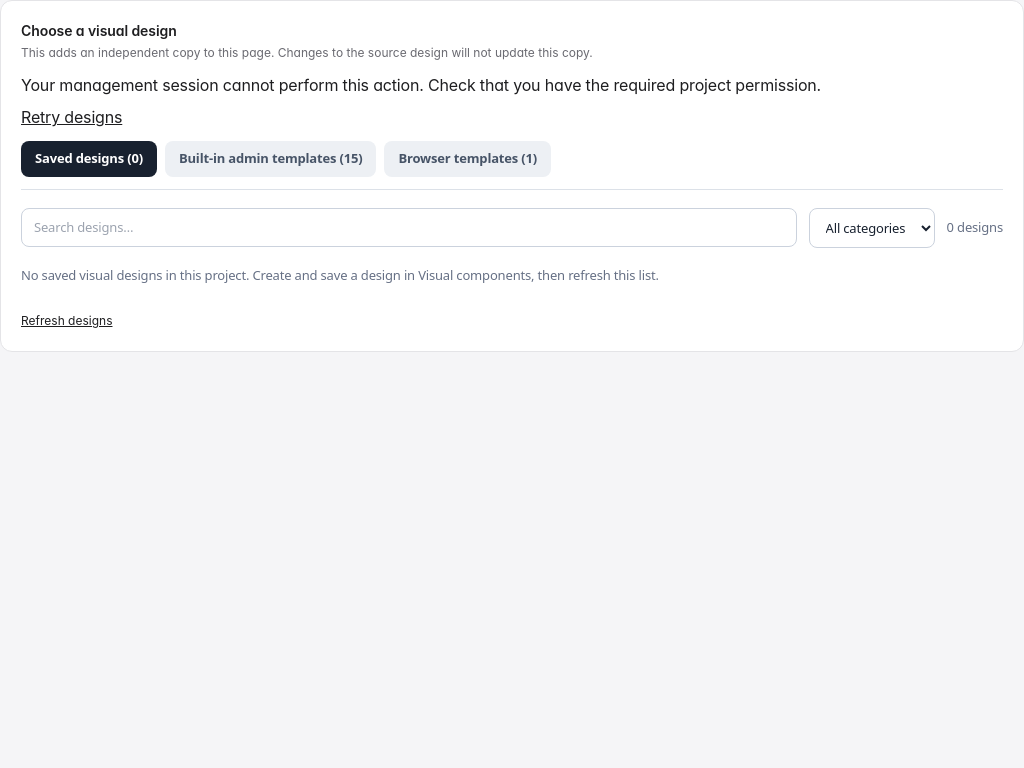
Test: keeps own browser template choices usable when loading saved designs fails
The width and height of the screenshot is (1024, 768).
Check: the message is shown, box [21,75,821,129]
Step 1. Click the tab "Browser templates (1)" → (468, 159), box [384,141,551,176]
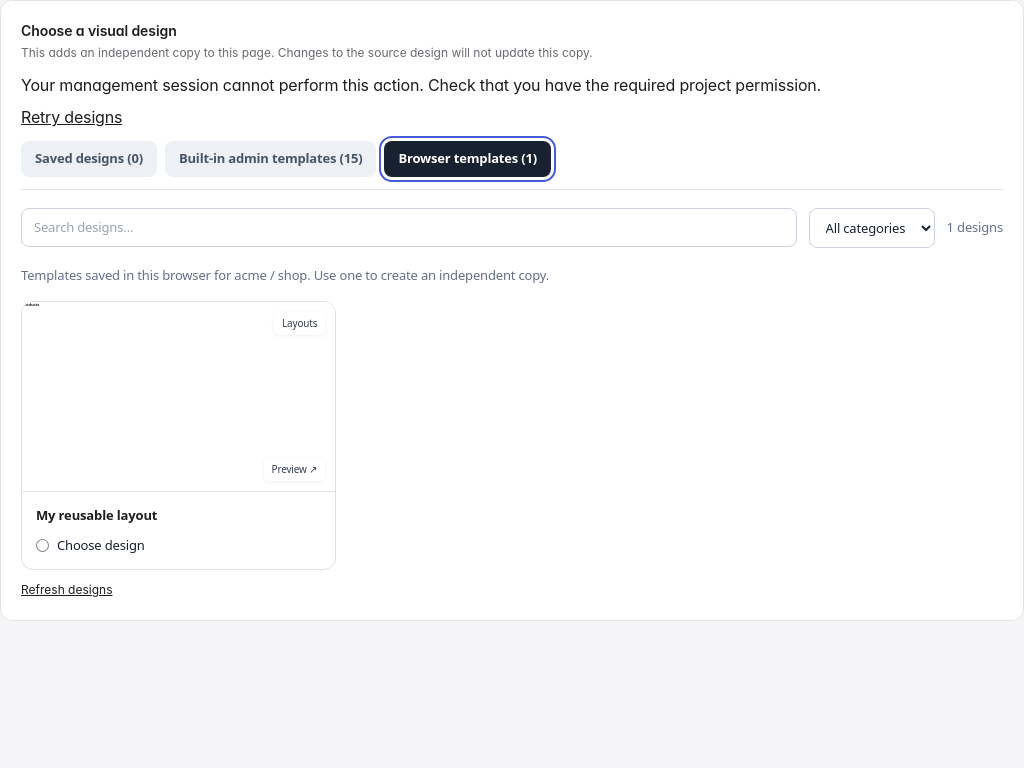
Step 2. Type "My reusable layout" into the search field labelled "Search designs" → (409, 228), box [21,208,797,247]
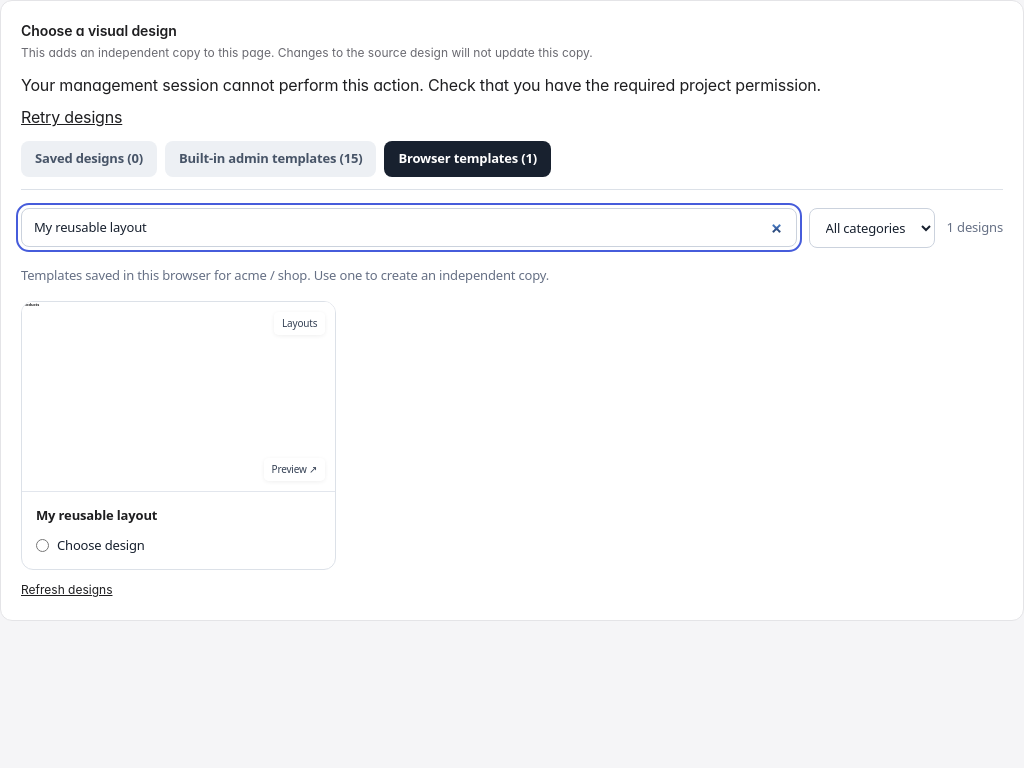
Step 3. Click the radio button with aria-label "My reusable layout" → (42, 545), box [36,539,49,552]
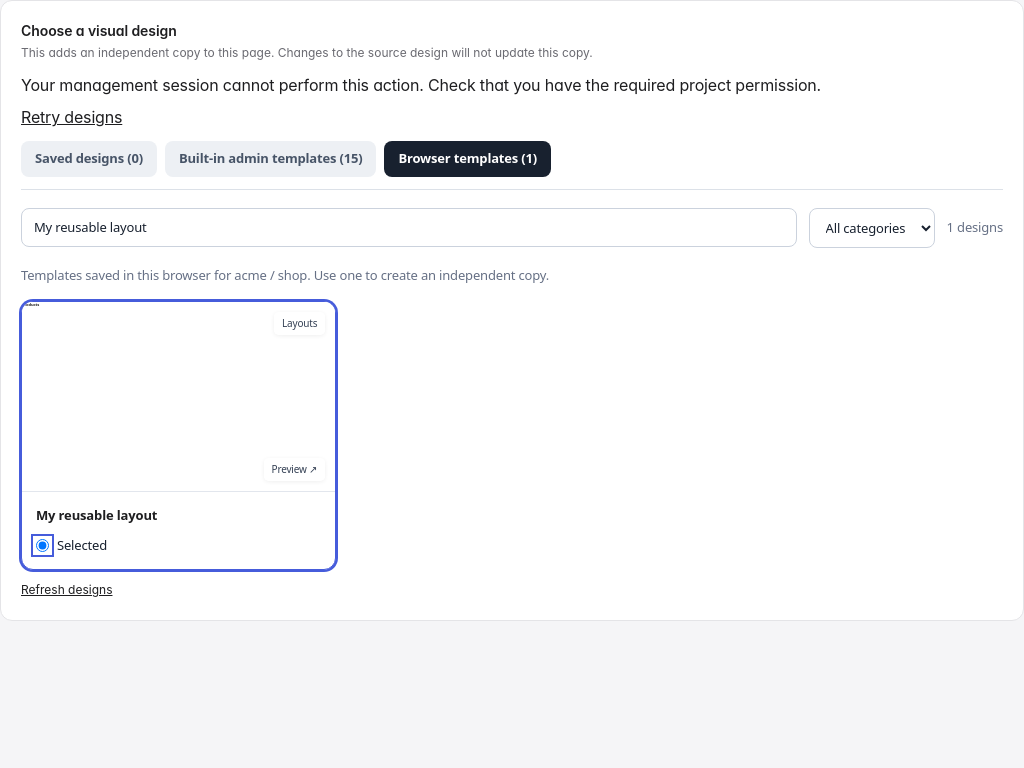
Check: the radio button with aria-label "My reusable layout" is checked, box [36,539,49,552]
